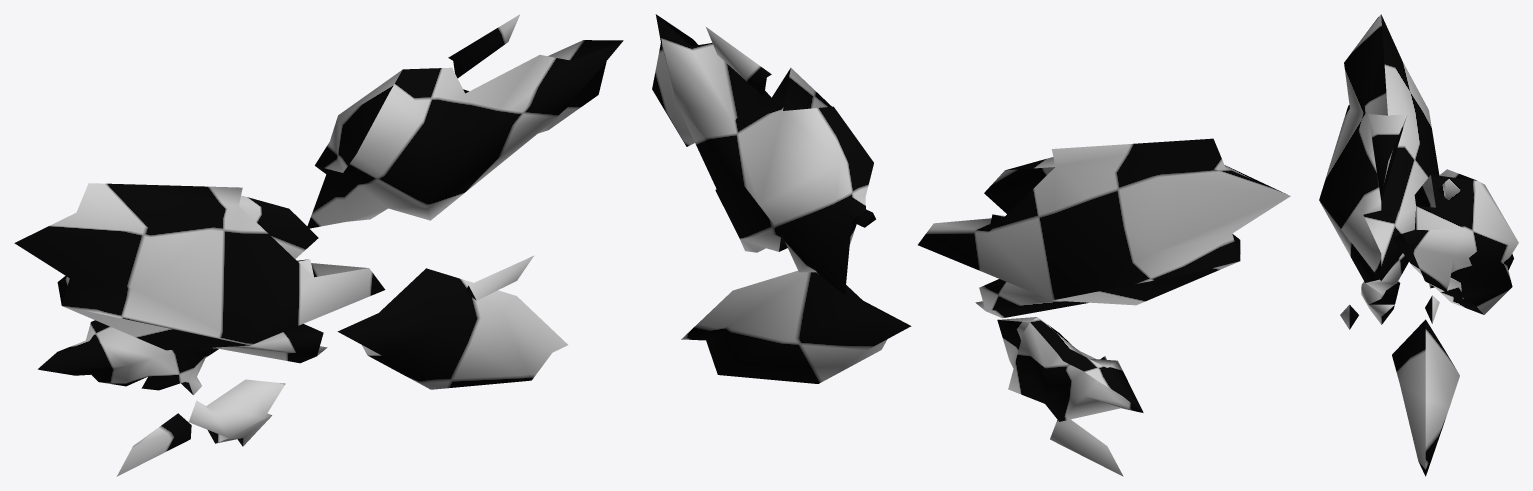
Rendered from asset-eic-asteroid-a.obj.
The picture shows the model from 3 angles, left to right: view 1: azimuth 30°, elevation 25°; view 2: azimuth 150°, elevation 25°; view 3: azimuth 270°, elevation 25°; orthographic projection. The views are drawn at different scales.
Visible parts, largest first — view 1: asset_eic_asteroid_a; view 2: asset_eic_asteroid_a; view 3: asset_eic_asteroid_a.
Part boxes in pixels (left/top/right/bottom): asset_eic_asteroid_a: left=14, top=14, right=623, bottom=476; asset_eic_asteroid_a: left=652, top=14, right=1290, bottom=476; asset_eic_asteroid_a: left=1319, top=14, right=1518, bottom=476.
Size of the model in its own units: 400 by 220 by 135.
Materials: 1 (1 with a texture image).
